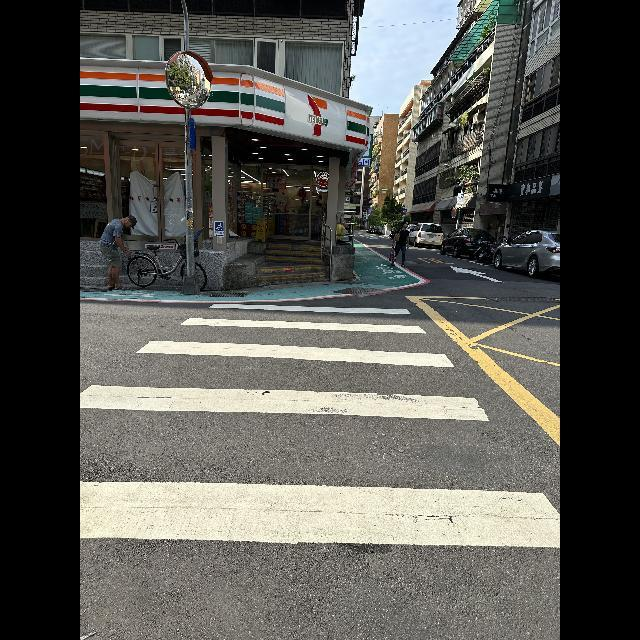sidewalk: (83, 302, 560, 545)
